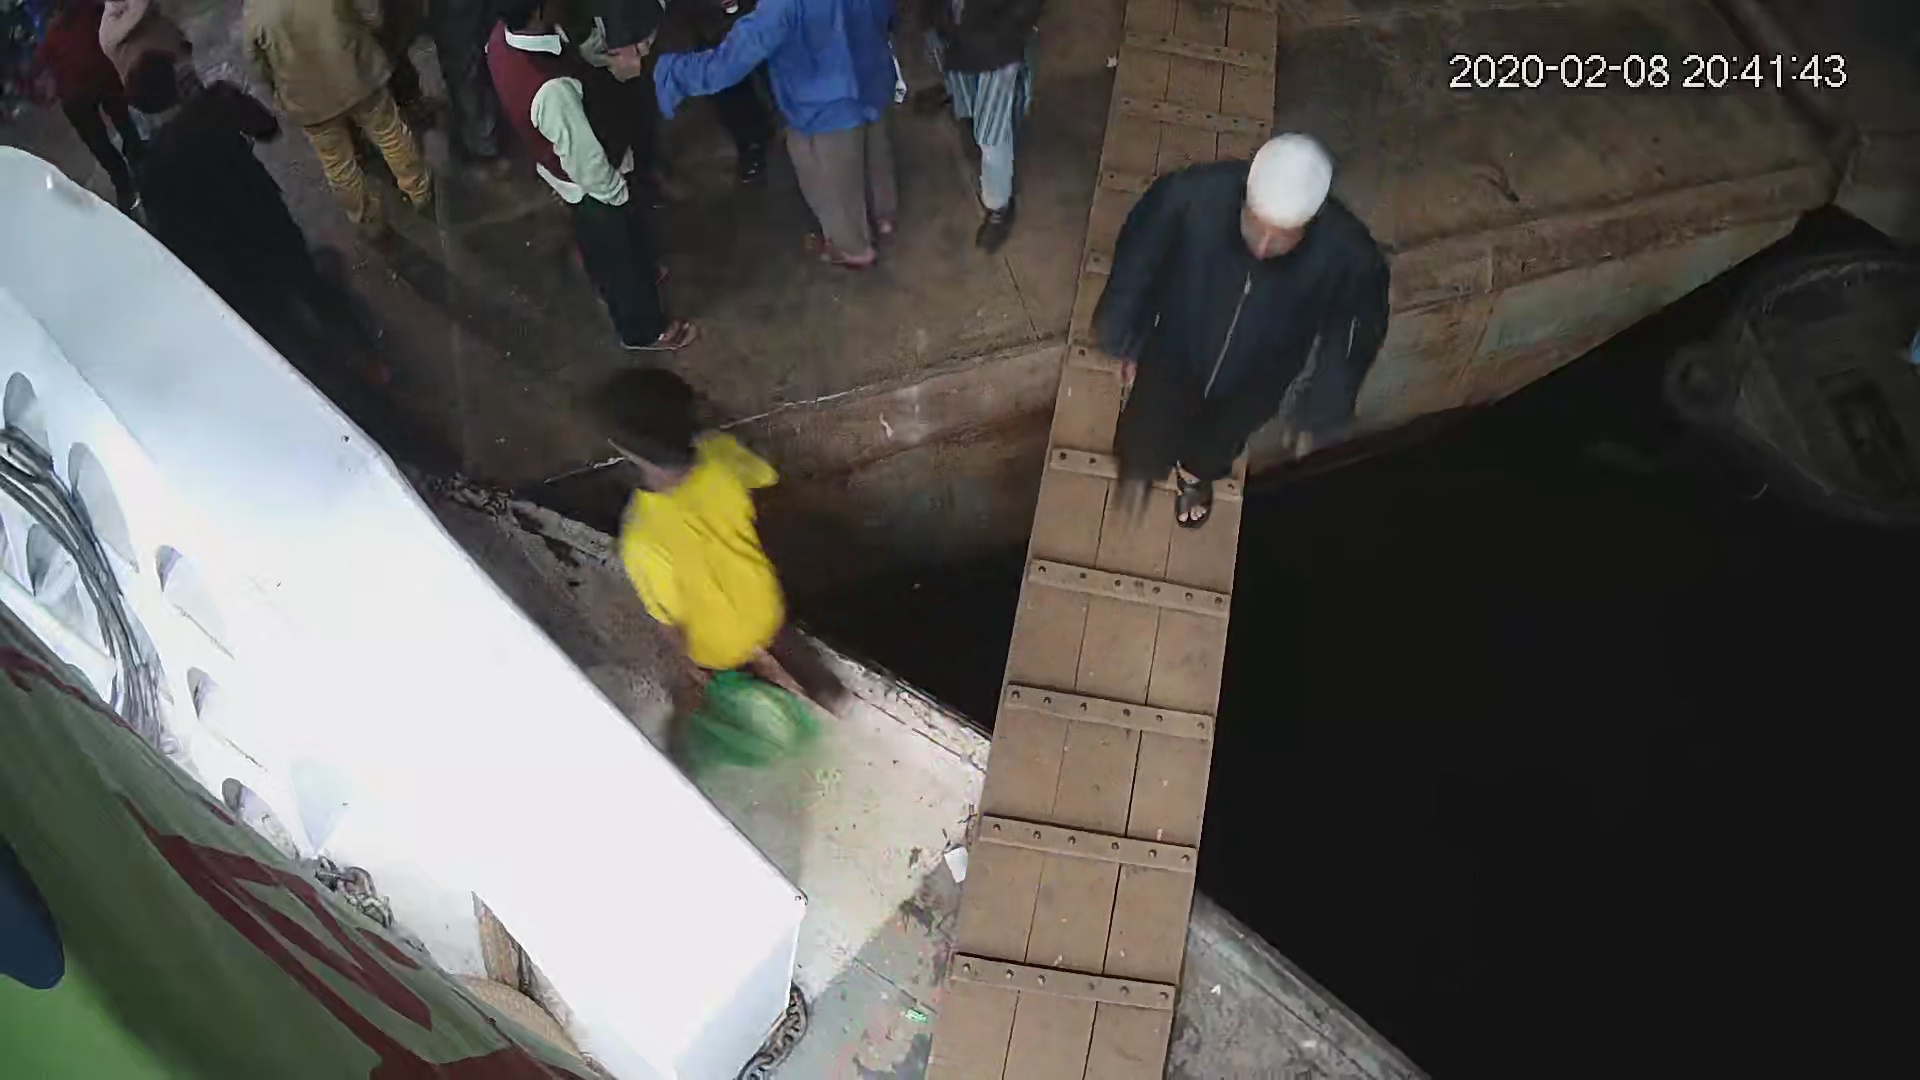person: (1077, 120, 1388, 534), (594, 355, 863, 728), (475, 1, 702, 355), (724, 1, 906, 276), (253, 1, 440, 243)
